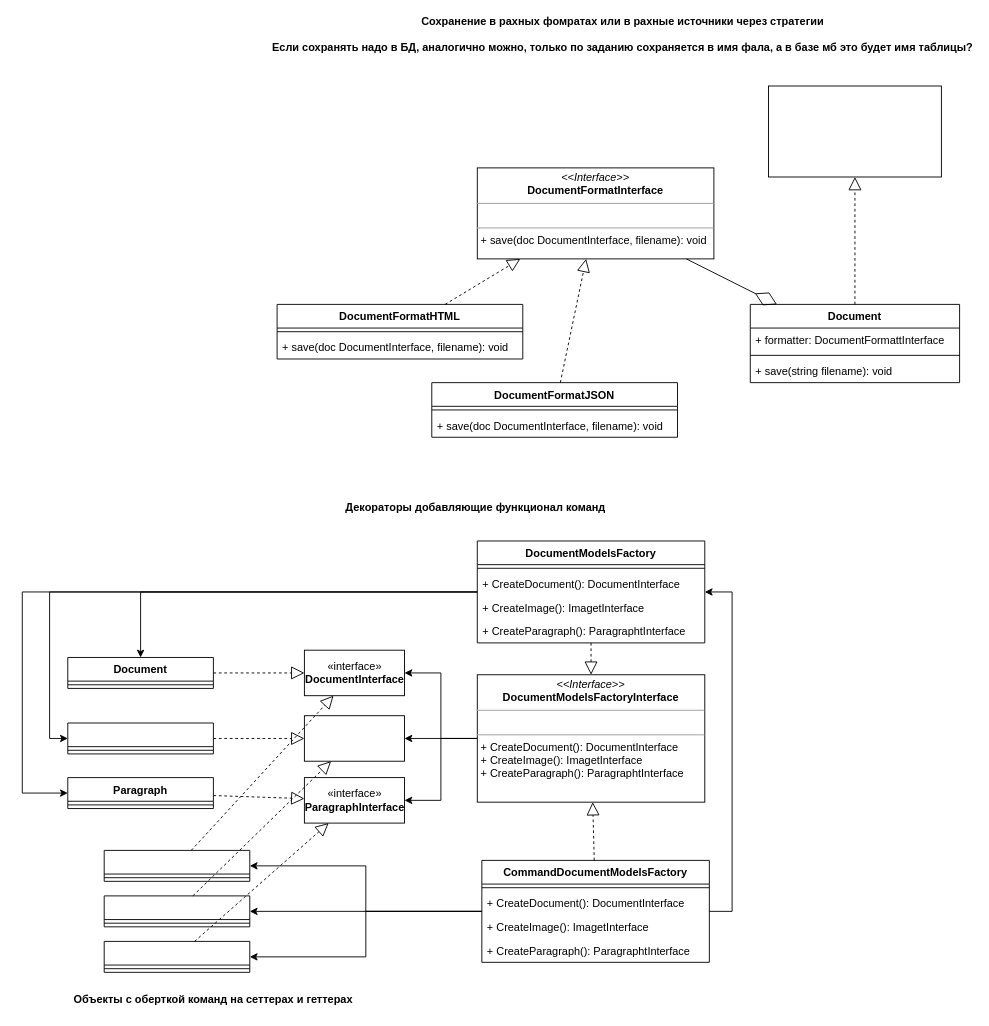
This 989x1026 diagram has some shape labels left out. Here are the shapes that lost their labels. From the top down, the centre of each, then its label:
At pixel 854 131: "<<Interface>> DocumentInterface + save(string filename): Type".
At pixel 140 738: "Image".
At pixel 353 738: "«interface» ImageInterface".
At pixel 176 865: "CommandDocument".
At pixel 176 911: "CommandImage".
At pixel 176 956: "CommandParagraph".
